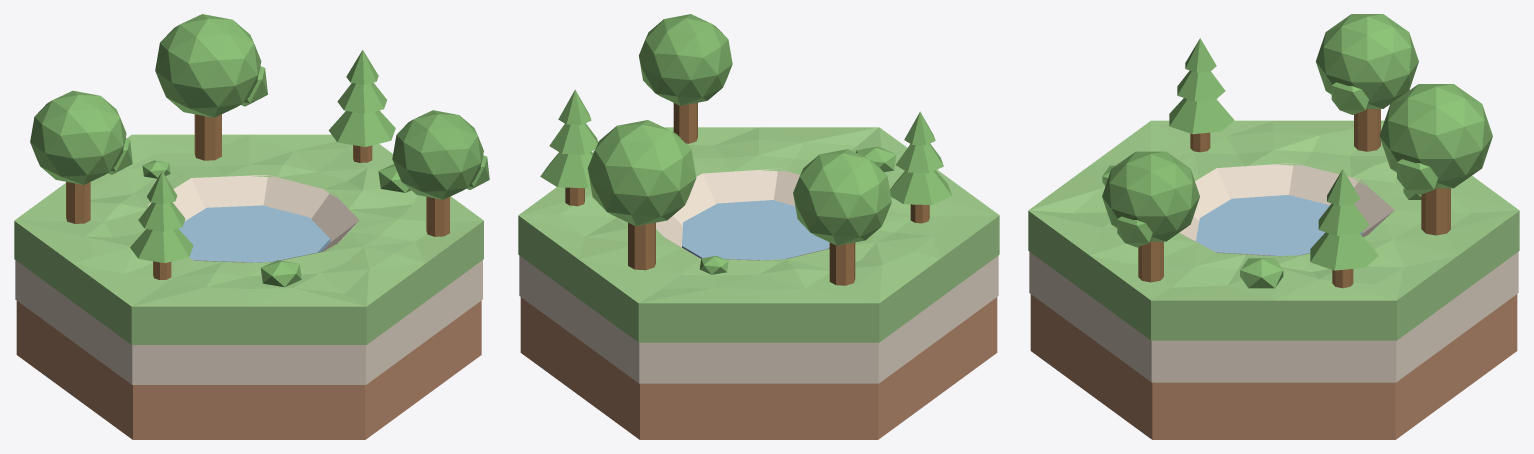
File: paradise-v1.glb
The picture shows the model from 3 angles, left to right: view 1: azimuth 30°, elevation 25°; view 2: azimuth 150°, elevation 25°; view 3: azimuth 270°, elevation 25°; orthographic projection. The views are drawn at different scales.
Visible parts, largest first — view 1: GRASS_top, HEX_brown, HEX_cream, HEX_grass_side, T1_crown, T0_crown, POND_water, T3_crown, POND_walls, T2_tier_0, T4_tier_0, T1_trunk (+8 smaller); view 2: GRASS_top, HEX_brown, HEX_cream, HEX_grass_side, T1_crown, T0_crown, POND_water, T3_crown, POND_walls, T4_tier_0, T2_tier_0, T1_trunk (+7 smaller); view 3: GRASS_top, HEX_brown, HEX_cream, HEX_grass_side, T1_crown, T0_crown, POND_water, T3_crown, POND_walls, T2_tier_0, T4_tier_0, T1_trunk (+10 smaller).
Part boxes in pixels (left/top/right/bottom): GRASS_top: left=14, top=134, right=483, bottom=306; HEX_brown: left=16, top=300, right=481, bottom=439; HEX_cream: left=15, top=222, right=482, bottom=384; HEX_grass_side: left=14, top=221, right=483, bottom=344; T1_crown: left=155, top=14, right=261, bottom=117; T0_crown: left=30, top=90, right=126, bottom=184; POND_water: left=178, top=205, right=330, bottom=262; T3_crown: left=392, top=110, right=483, bottom=199; POND_walls: left=148, top=175, right=359, bottom=263; T2_tier_0: left=328, top=110, right=395, bottom=146; T4_tier_0: left=130, top=228, right=193, bottom=263; T1_trunk: left=194, top=114, right=221, bottom=160; GRASS_top: left=518, top=127, right=999, bottom=303; HEX_brown: left=520, top=297, right=997, bottom=439; HEX_cream: left=519, top=255, right=998, bottom=383; HEX_grass_side: left=518, top=215, right=999, bottom=342; T1_crown: left=587, top=120, right=696, bottom=226; T0_crown: left=793, top=149, right=891, bottom=245; POND_water: left=682, top=200, right=829, bottom=260; T3_crown: left=639, top=14, right=732, bottom=105; POND_walls: left=656, top=168, right=829, bottom=260; T4_tier_0: left=890, top=170, right=951, bottom=204; T2_tier_0: left=540, top=151, right=593, bottom=188; T1_trunk: left=628, top=222, right=655, bottom=270; GRASS_top: left=1028, top=120, right=1519, bottom=300; HEX_brown: left=1030, top=294, right=1517, bottom=439; HEX_cream: left=1029, top=252, right=1518, bottom=382; HEX_grass_side: left=1028, top=210, right=1519, bottom=340; T1_crown: left=1379, top=84, right=1492, bottom=188; T0_crown: left=1316, top=14, right=1418, bottom=108; POND_water: left=1196, top=195, right=1362, bottom=255; T3_crown: left=1102, top=151, right=1199, bottom=241; POND_walls: left=1179, top=163, right=1394, bottom=256; T2_tier_0: left=1310, top=232, right=1378, bottom=270; T4_tier_0: left=1169, top=98, right=1234, bottom=134; T1_trunk: left=1421, top=188, right=1450, bottom=235.
Size of the model in its own units: 1.73 by 1.27 by 2.
